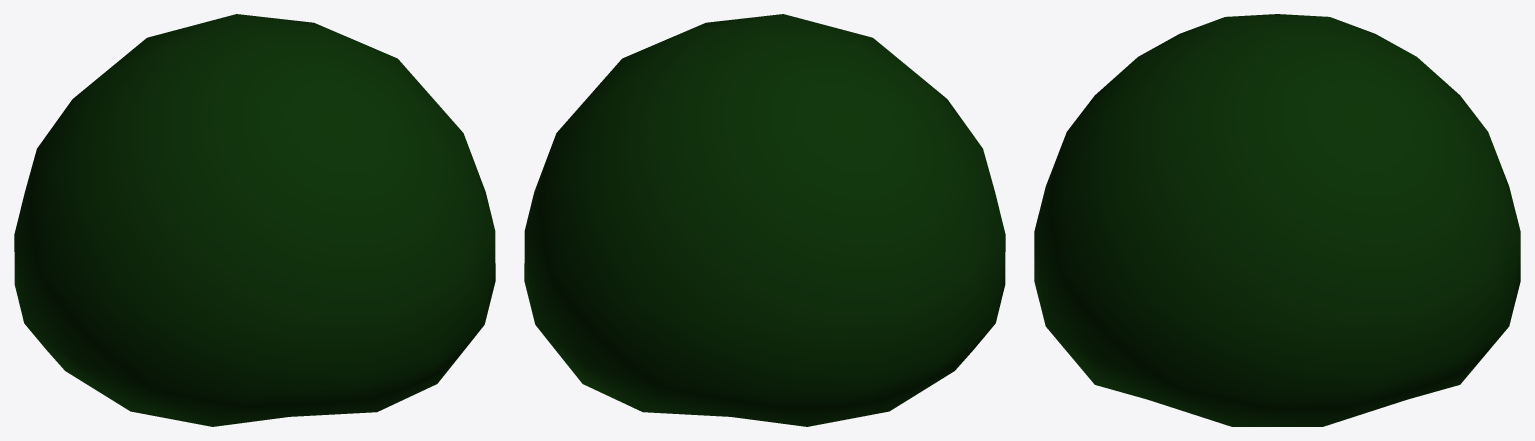
Rendered from buske.FBX.
The picture shows the model from 3 angles, left to right: view 1: azimuth 30°, elevation 25°; view 2: azimuth 150°, elevation 25°; view 3: azimuth 270°, elevation 25°; orthographic projection.
Visible parts, largest first — view 1: GeoSphere001; view 2: GeoSphere001; view 3: GeoSphere001.
Part boxes in pixels (bbox=[...]): GeoSphere001: bbox=[14, 14, 495, 426]; GeoSphere001: bbox=[524, 14, 1005, 426]; GeoSphere001: bbox=[1034, 14, 1520, 426].
Size of the model in its own units: 38.03 by 30.01 by 37.93.
